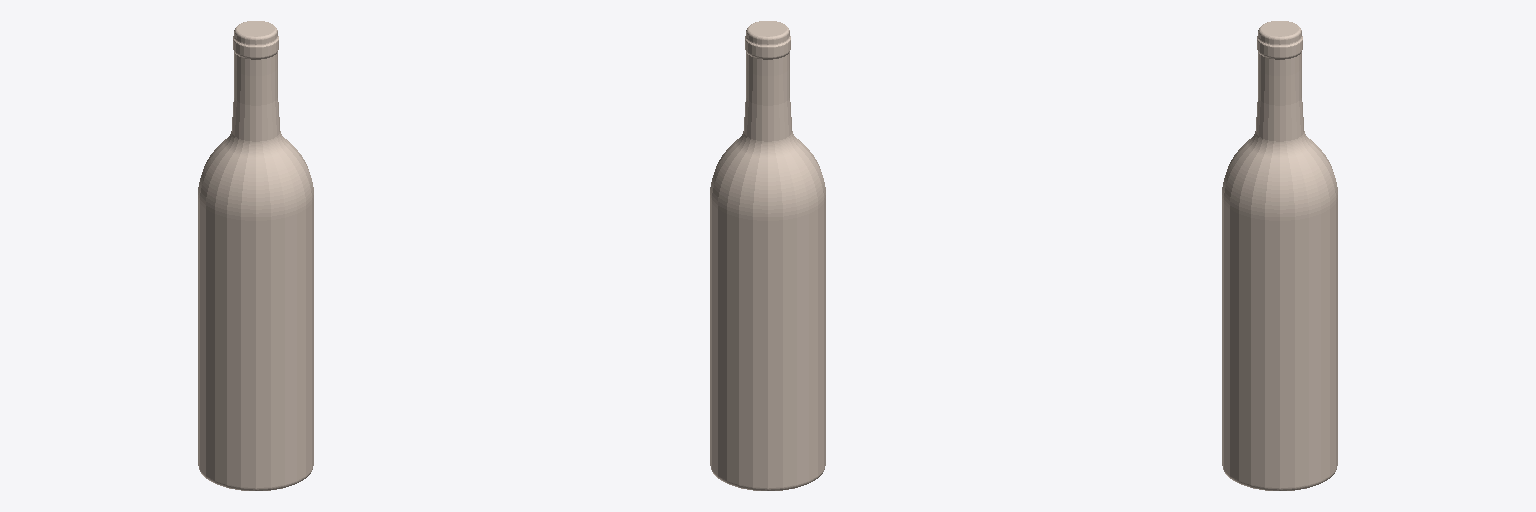
URDF robot description (bottle):
<?xml version="1.0" ?>
<robot name = "bottle">
  <material name="Black">
    <color rgba="0.0 0.0 0.0 1.0"/>
  </material>
  <material name="Blue">
    <color rgba="0.0 0.0 0.8 1.0"/>
  </material>
  <material name="Green">
    <color rgba="0.0 0.8 0.0 1.0"/>
  </material>
  <material name="Grey">
    <color rgba="0.4 0.4 0.4 1.0"/>
  </material>
  <material name="Orange">
    <color rgba="1.0 0.423529411765 0.0392156862745 1.0"/>
  </material>
  <material name="Brown">
    <color rgba="0.870588235294 0.811764705882 0.764705882353 1.0"/>
  </material>
  <material name="Red">
    <color rgba="0.8 0.0 0.0 1.0"/>
  </material>
  <material name="White">
    <color rgba="1.0 1.0 1.0 1.0"/>
  </material>
	<link name = "bottle">
	<visual>
		<origin rpy="0 0 0" xyz="-0.045 -0.045 0.00"/>
		<geometry>
		<mesh filename="../meshes/bottle.obj"/>
		</geometry>
		<material name="Beets">
			<color rgba="0.870588235294 0.811764705882 0.764705882353 1.0"/>
			<texture filename="../meshes/CabWrap.jpg"/>
		</material>
	</visual>
	<collision>
		<origin rpy="0 0 0" xyz="0 0 0"/>
		<geometry>
		<cylinder length="0.36" radius="0.045"/>
		</geometry>
	</collision>
	</link>
</robot>

--- What the picture shows (computed from the rendered views, not written in the file) ---
3 views of the same robot in one strip: view 1: azimuth 30°, elevation 25°; view 2: azimuth 150°, elevation 25°; view 3: azimuth 270°, elevation 25° (orthographic).
Model bottle with 1 links and 0 joints (none), rooted at bottle, posed every joint at zero.
Links seen in each view (by area): view 1: bottle; view 2: bottle; view 3: bottle.
Link boxes in pixels (<box>): bottle: <box>198,21,313,490</box>; bottle: <box>710,21,825,490</box>; bottle: <box>1222,21,1337,490</box>.
Size in the robot's own frame: 0.0862 by 0.0862 by 0.3596 metres.
Meshes: 1 distinct files referenced, 1 mesh visuals loaded (1 OBJ).
